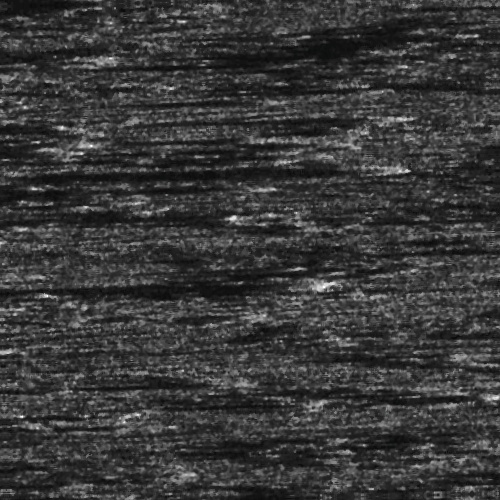object: (256, 277, 339, 290), (223, 132, 328, 141), (228, 93, 301, 102), (475, 246, 500, 259), (358, 114, 389, 123), (0, 264, 20, 275), (461, 397, 492, 402), (357, 164, 368, 175), (494, 216, 500, 225)
shadow: (0, 277, 297, 290), (44, 164, 362, 175), (314, 246, 500, 259), (145, 114, 373, 123), (345, 216, 500, 225), (122, 93, 264, 102), (133, 132, 275, 141), (348, 397, 476, 402), (0, 144, 69, 147), (472, 482, 500, 489)
